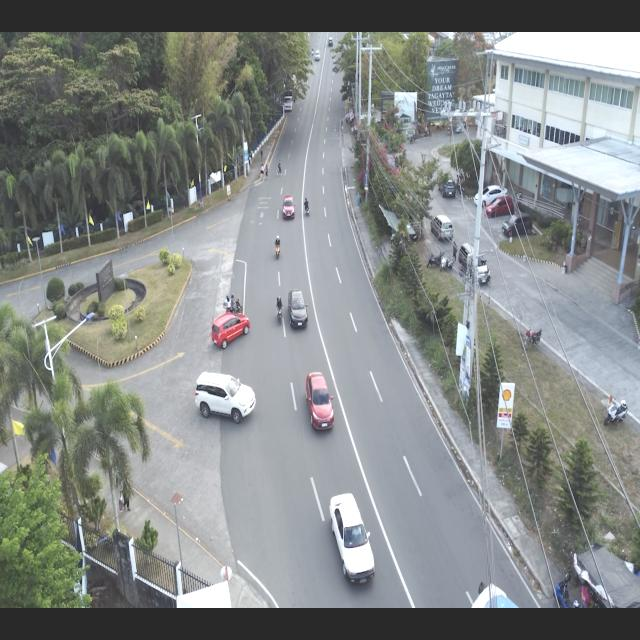car: (329, 491, 376, 587), (193, 370, 257, 424), (304, 370, 337, 432), (210, 311, 250, 350), (458, 242, 490, 290), (287, 288, 309, 329), (502, 212, 534, 238), (474, 185, 508, 208), (430, 214, 454, 244), (484, 196, 515, 219), (282, 195, 296, 220)
motorcycle: (603, 399, 629, 426), (522, 326, 542, 350), (222, 293, 243, 314), (426, 249, 444, 269), (274, 294, 284, 326), (439, 253, 454, 272), (304, 197, 312, 218), (274, 235, 280, 260)
person: (277, 160, 282, 176), (264, 164, 269, 180), (260, 161, 264, 180)
truck: (283, 88, 293, 111)
